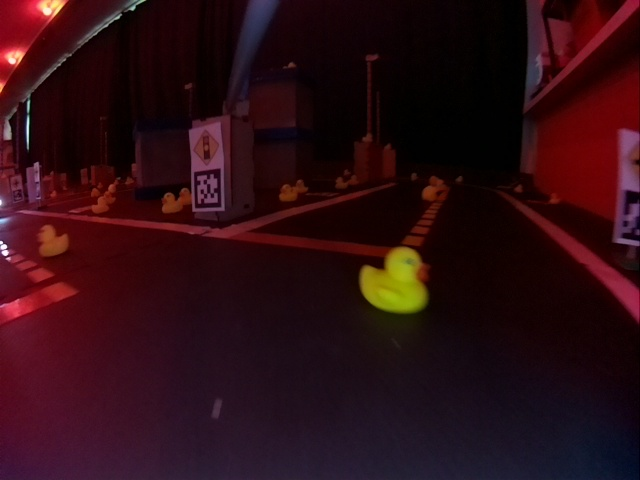Duckie: (359, 248, 429, 303), (36, 225, 67, 252), (161, 193, 182, 214), (93, 198, 109, 214), (279, 185, 294, 201), (180, 188, 191, 205), (295, 180, 308, 192), (103, 191, 115, 203), (335, 178, 347, 188), (91, 188, 100, 198), (349, 176, 358, 185)
QR code: (194, 170, 222, 208)
Signal sign: (192, 128, 222, 161)
